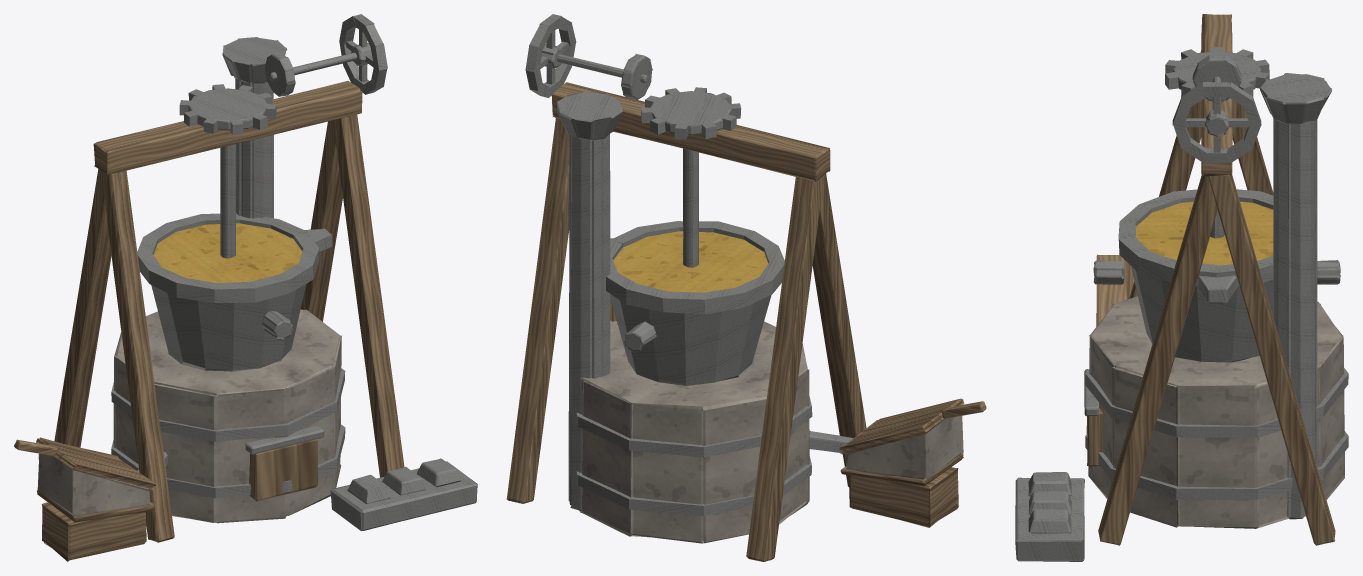
The model's file is alloy_mixer.glb.
The picture shows the model from 3 angles, left to right: view 1: azimuth 30°, elevation 25°; view 2: azimuth 150°, elevation 25°; view 3: azimuth 270°, elevation 25°; orthographic projection. The views are drawn at different scales.
Visible parts, largest first — view 1: AlloyMixer; view 2: AlloyMixer; view 3: AlloyMixer.
Boxes of the visible parts, left/top/right/bottom form: AlloyMixer: left=14, top=14, right=477, bottom=561; AlloyMixer: left=506, top=14, right=986, bottom=561; AlloyMixer: left=1015, top=14, right=1348, bottom=561.
Size of the model in its own units: 2.95 by 2.95 by 1.9.
Materials: 4 (4 with a texture image).
